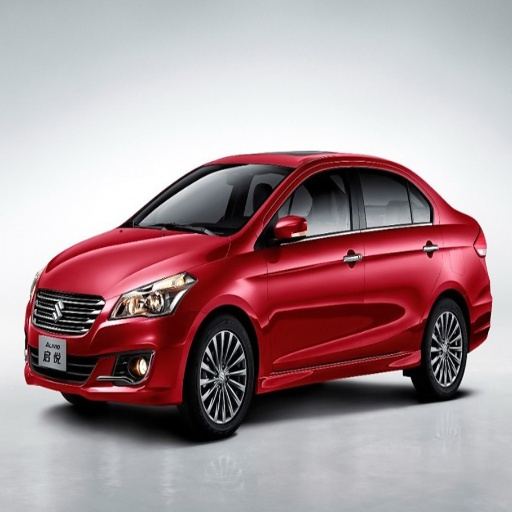back_left_door: (355, 163, 442, 354)
front_bumper: (26, 277, 198, 402)
front_glass: (123, 164, 289, 234)
front_left_door: (259, 164, 363, 373)
